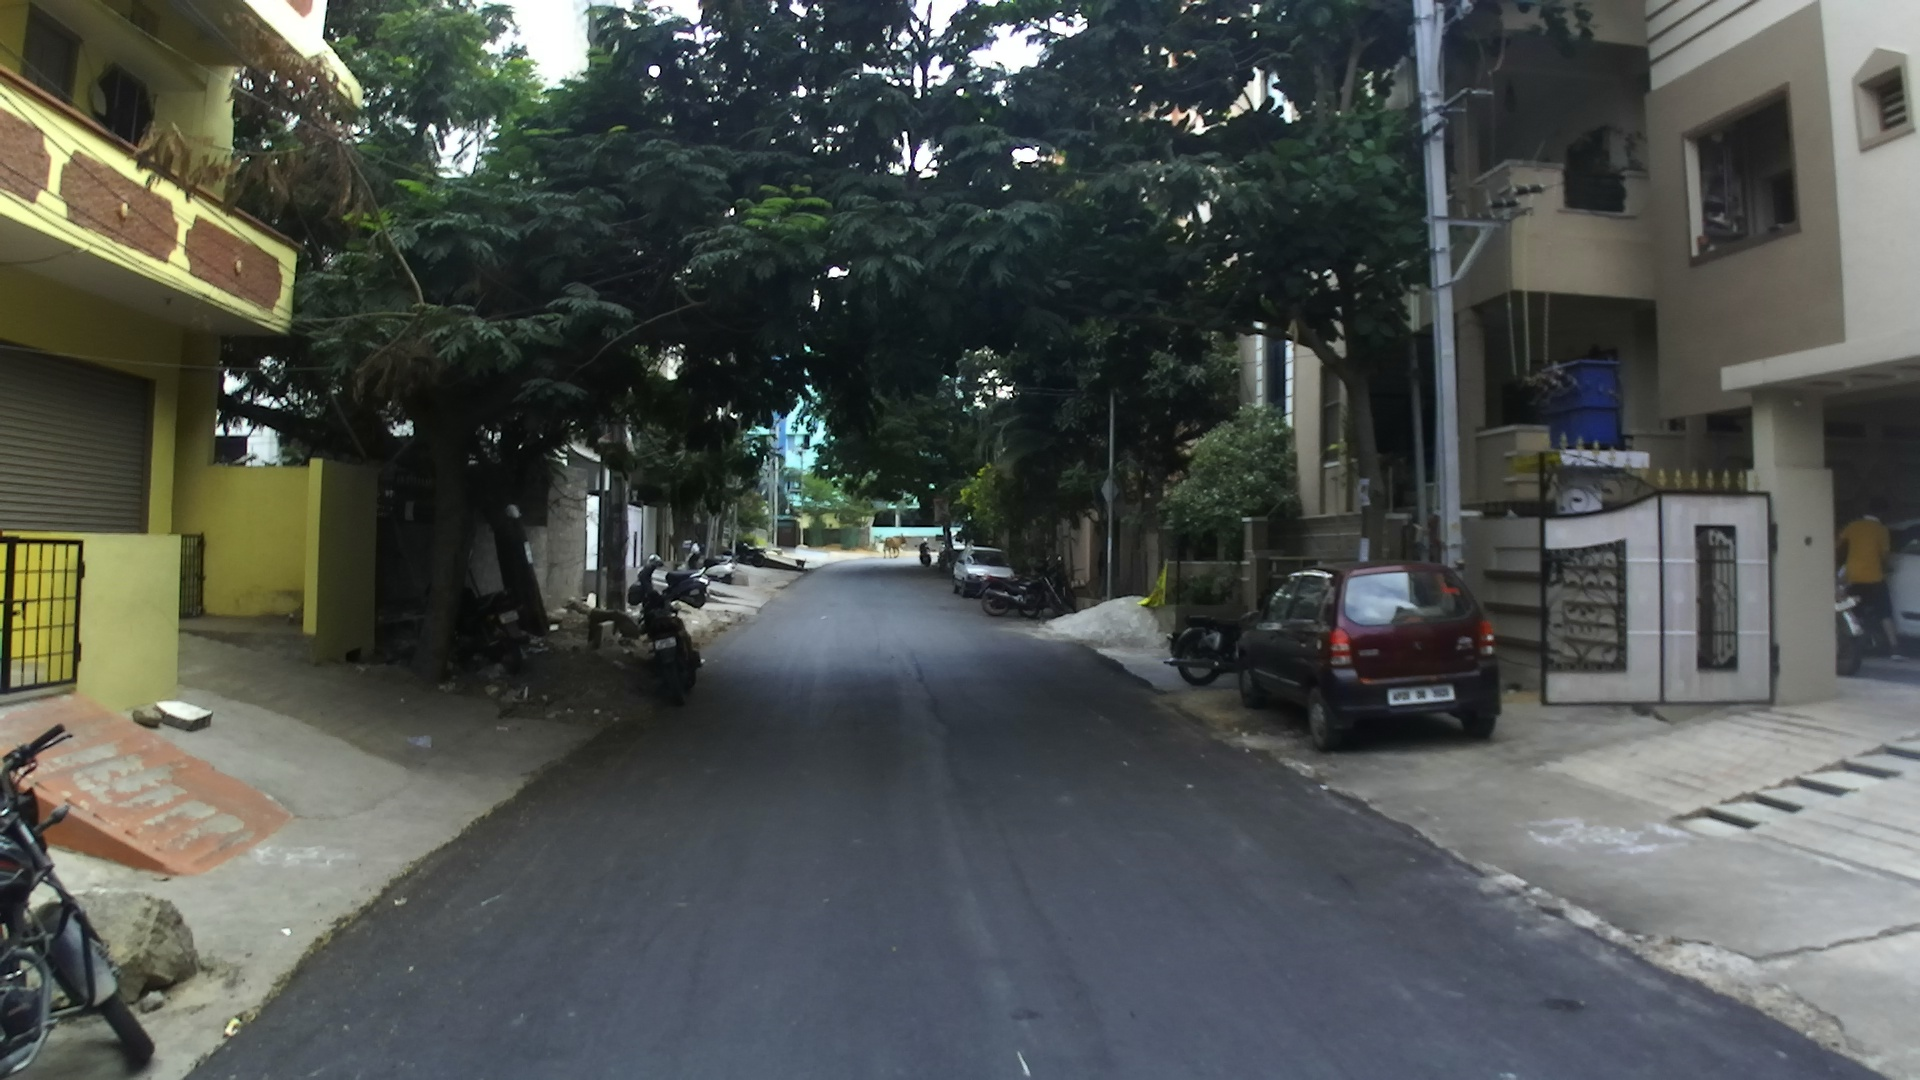vehicle: (0, 723, 157, 1072), (1234, 560, 1503, 746), (630, 609, 702, 705), (1166, 612, 1251, 684), (951, 549, 1014, 604)
